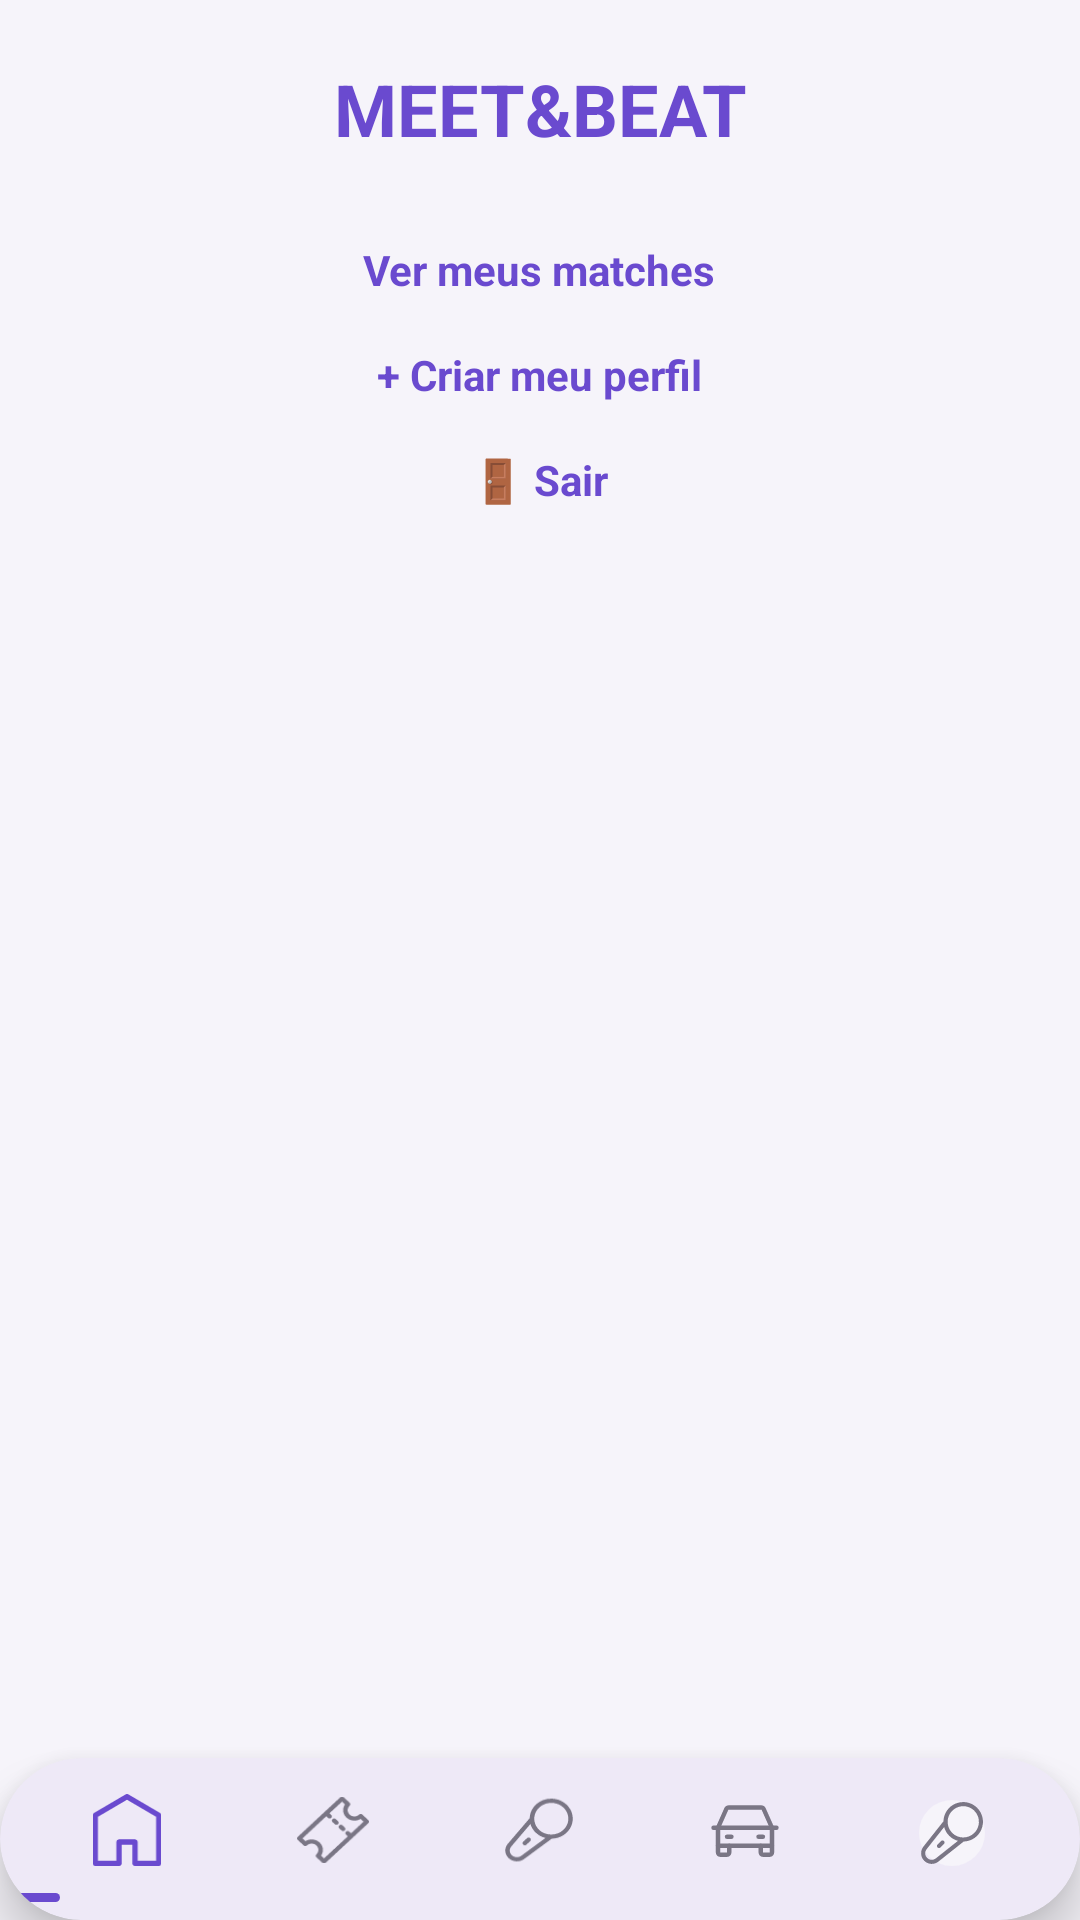

Named icons in this screenshot (1080x1920) and their bounding boxes, [x1,y1,x2,y2]:
home: [93,1794,161,1866]
mic: [505,1798,573,1862]
ticket: [297,1797,369,1863]
